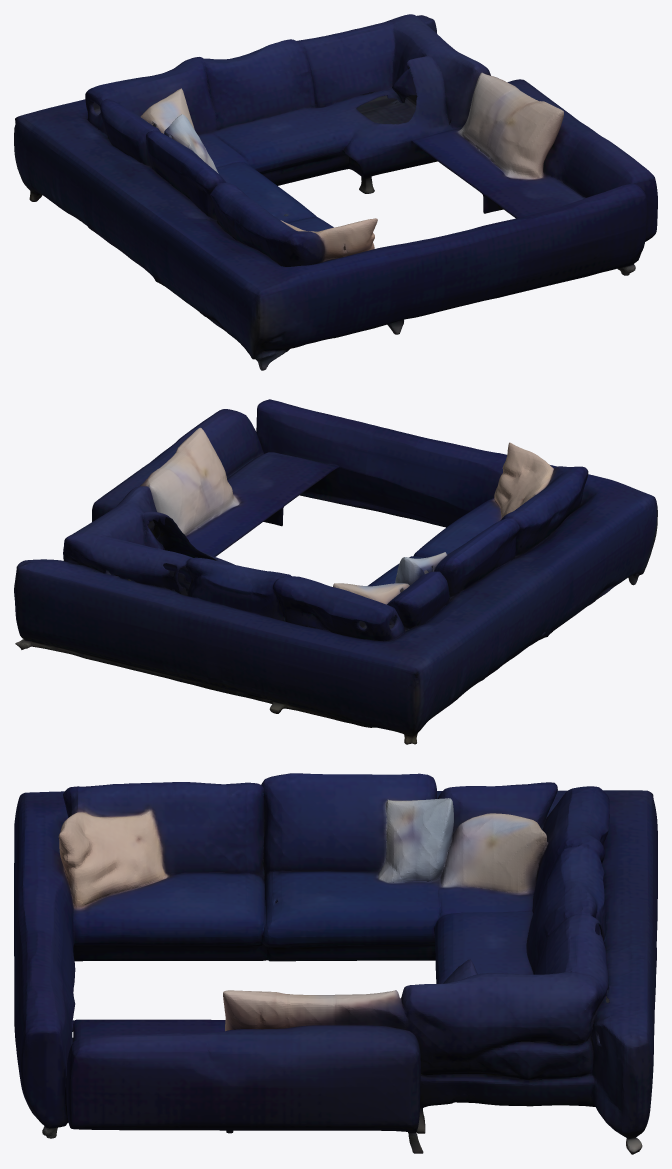
The model's file is trellis.glb.
The picture shows the model from 3 angles, top to bottom: view 1: azimuth 30°, elevation 25°; view 2: azimuth 150°, elevation 25°; view 3: azimuth 270°, elevation 25°; orthographic projection. The views are drawn at different scales.
Parts seen in each view (by area): view 1: world; view 2: world; view 3: world.
Boxes of the visible parts, x1,y1,x2,y2 form: world: (14,14,657,370); world: (14,399,657,744); world: (14,773,657,1154).
Size of the model in its own units: 0.9969 by 0.2761 by 1.
